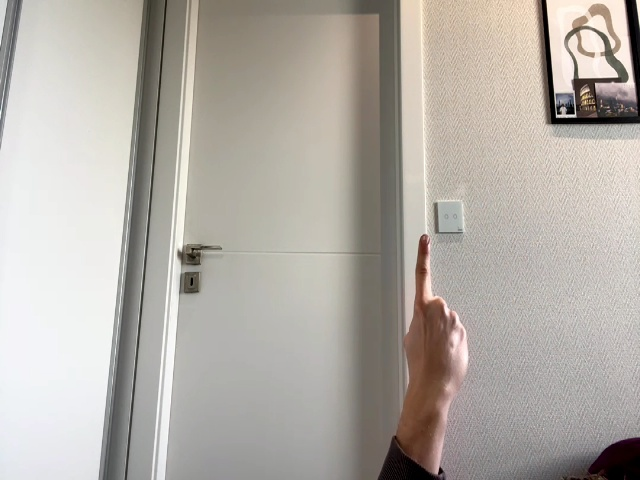D: (404, 235, 468, 412)
